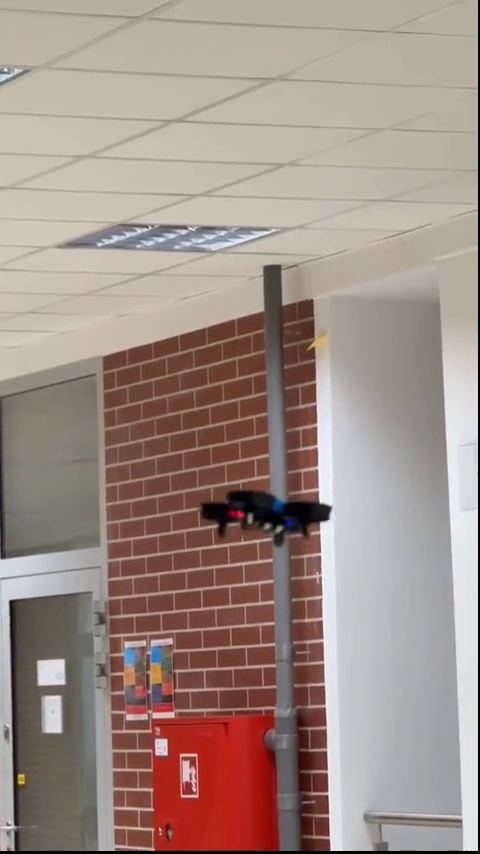drone: (204, 490, 337, 547)
